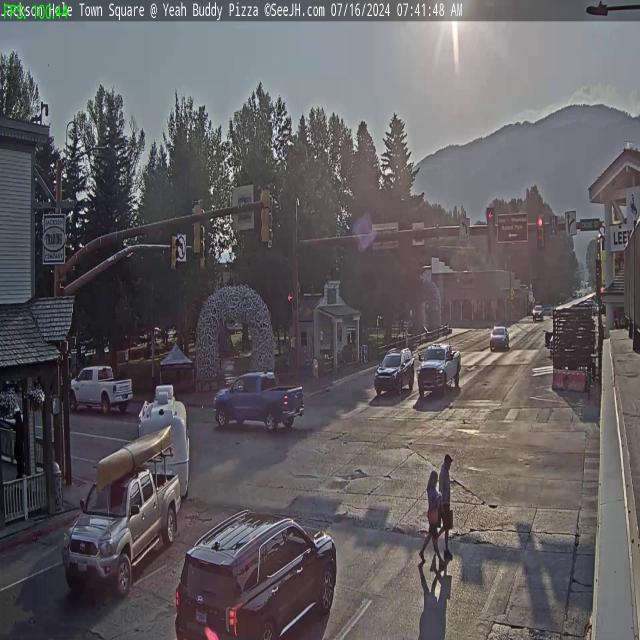person: (440, 452, 453, 567), (427, 471, 440, 561)
pickup: (62, 473, 181, 599), (214, 369, 306, 436), (67, 367, 137, 419), (419, 342, 462, 400)
sedan: (490, 324, 510, 349)
suv: (173, 503, 339, 640), (373, 346, 413, 395)
traffic light: (260, 184, 272, 246), (191, 199, 203, 257), (486, 208, 496, 254), (169, 232, 179, 276), (536, 214, 544, 249)
